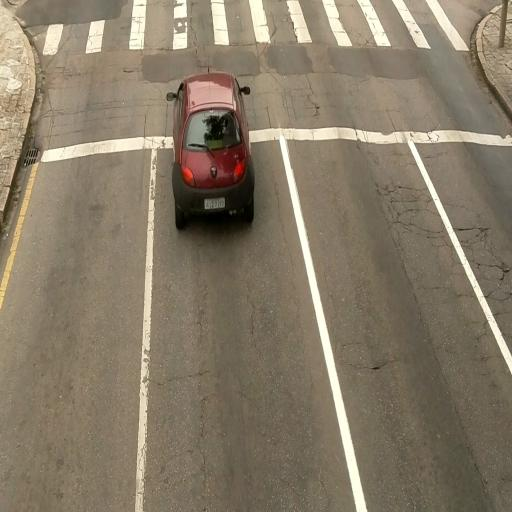car: (168, 71, 256, 229)
